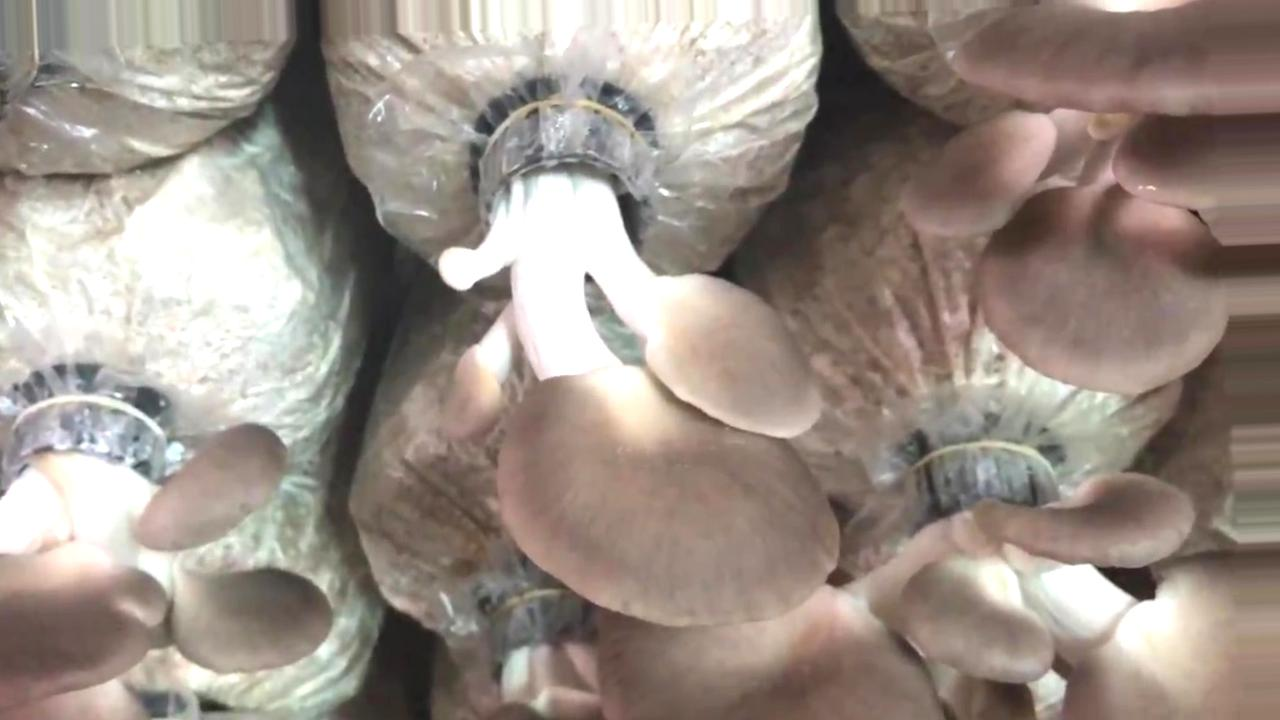nam: (428, 80, 845, 632), (596, 427, 1280, 719), (889, 3, 1280, 395), (1, 388, 339, 717)
